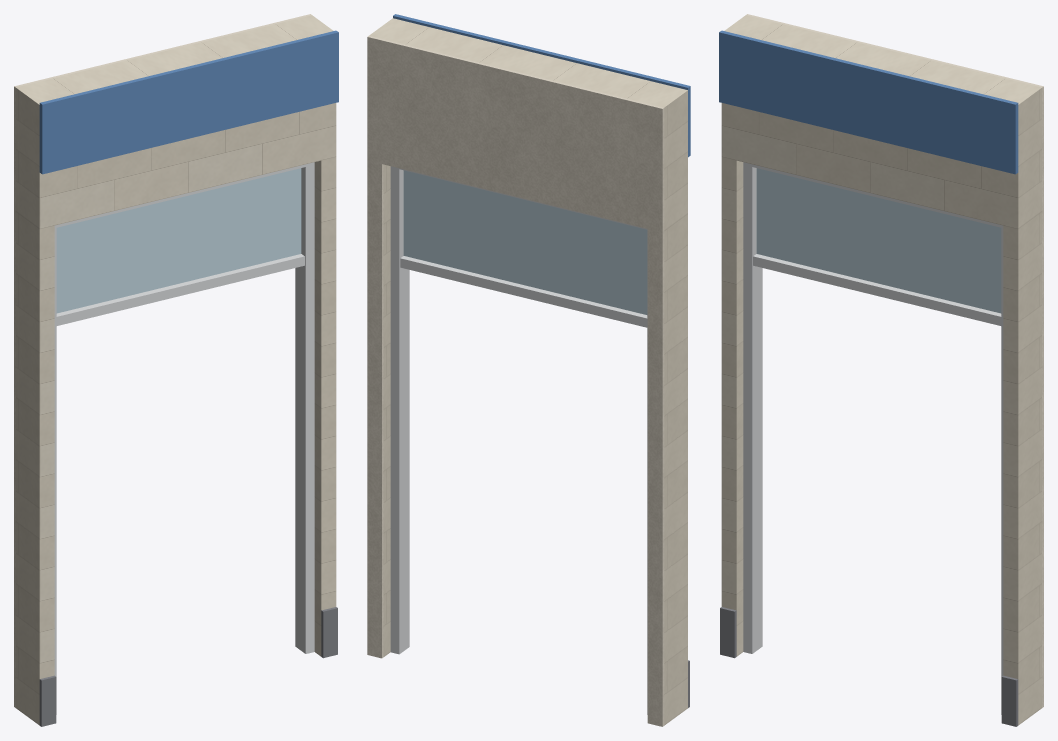
Rendered from wall_store_entry.glb.
The picture shows the model from 3 angles, left to right: view 1: azimuth 30°, elevation 25°; view 2: azimuth 150°, elevation 25°; view 3: azimuth 330°, elevation 25°; orthographic projection.
Parts seen in each view (by area): view 1: wall_store_entry_block, wall_store_entry_band, wall_store_entry_glass, wall_store_entry_alu, wall_store_entry_plaster, wall_store_entry_dark; view 2: wall_store_entry_plaster, wall_store_entry_block, wall_store_entry_glass, wall_store_entry_alu, wall_store_entry_band; view 3: wall_store_entry_block, wall_store_entry_band, wall_store_entry_glass, wall_store_entry_alu, wall_store_entry_plaster, wall_store_entry_dark.
Part boxes in pixels (bbox=[...]): wall_store_entry_block: bbox=[16, 15, 336, 725]; wall_store_entry_band: bbox=[39, 30, 338, 174]; wall_store_entry_glass: bbox=[56, 168, 301, 313]; wall_store_entry_alu: bbox=[54, 162, 314, 714]; wall_store_entry_plaster: bbox=[14, 14, 311, 707]; wall_store_entry_dark: bbox=[39, 607, 337, 726]; wall_store_entry_plaster: bbox=[367, 35, 664, 726]; wall_store_entry_block: bbox=[369, 18, 687, 725]; wall_store_entry_glass: bbox=[403, 170, 647, 314]; wall_store_entry_alu: bbox=[390, 166, 647, 714]; wall_store_entry_band: bbox=[393, 14, 690, 157]; wall_store_entry_block: bbox=[721, 15, 1041, 725]; wall_store_entry_band: bbox=[719, 30, 1018, 174]; wall_store_entry_glass: bbox=[756, 168, 1001, 313]; wall_store_entry_alu: bbox=[743, 162, 1003, 714]; wall_store_entry_plaster: bbox=[746, 14, 1043, 707]; wall_store_entry_dark: bbox=[720, 607, 1018, 726].
Bounding box in the file's own units: 2 × 4.01 × 0.33.
Materials: 6 (2 with a texture image).
